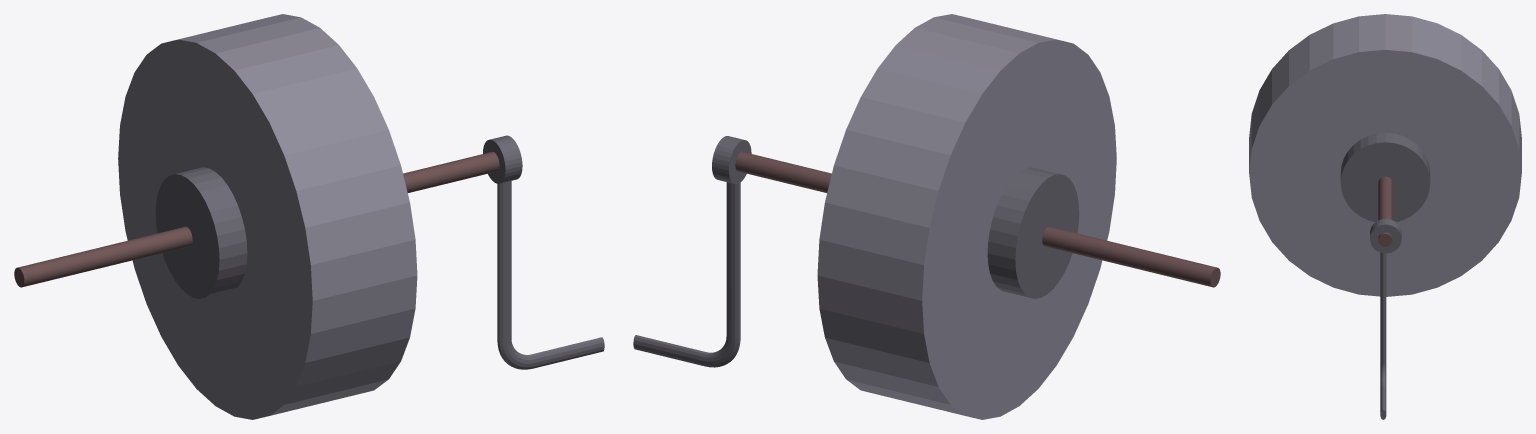
File: grind_wheel.fbx
3 views of the same model, side by side, from view 1: azimuth 30°, elevation 25°; view 2: azimuth 150°, elevation 25°; view 3: azimuth 270°, elevation 25° (orthographic). The views are drawn at different scales.
Visible parts, largest first — view 1: Torus; view 2: Torus; view 3: Torus.
Boxes of the visible parts, x1,y1,x2,y2 form: Torus: (14, 14, 604, 419); Torus: (633, 14, 1220, 419); Torus: (1249, 14, 1521, 419).
Size of the model in its own units: 87.15 by 56.02 by 50.52.
